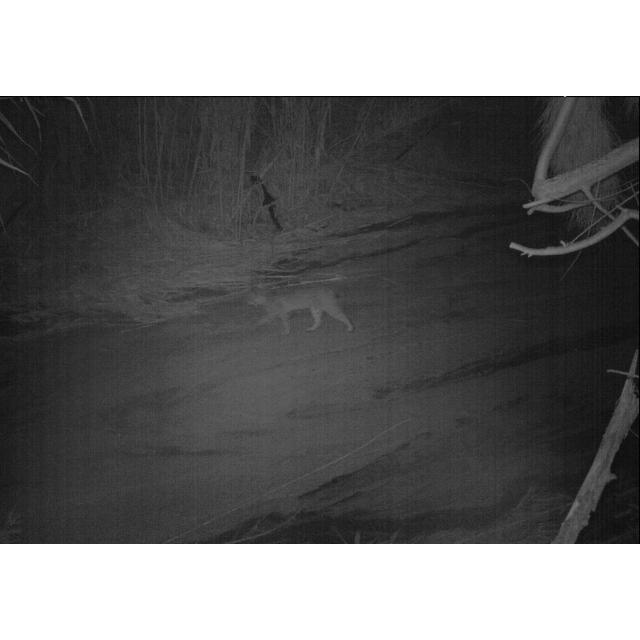animals: (246, 284, 356, 336)
